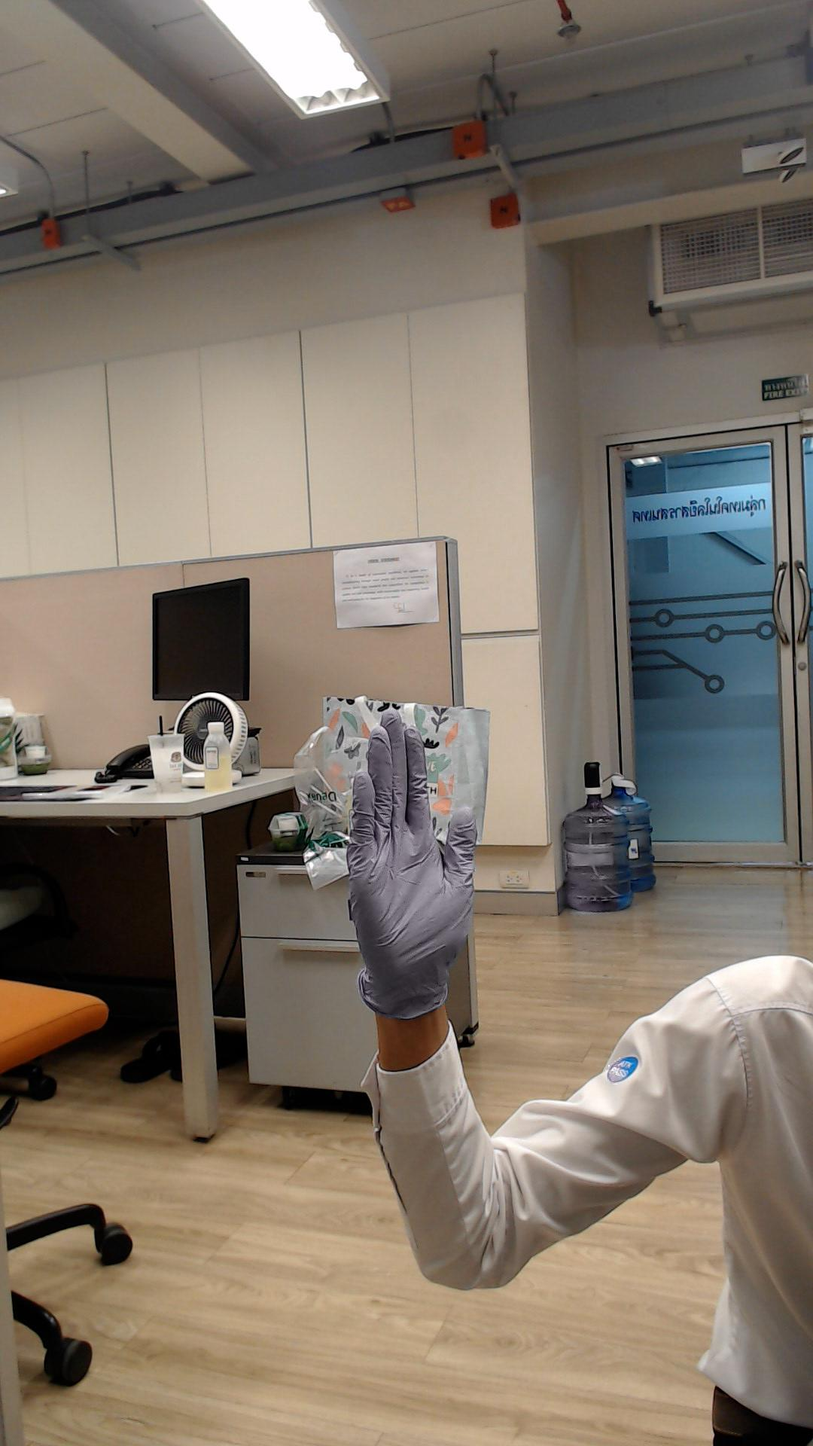gloves: (284, 693, 513, 983)
